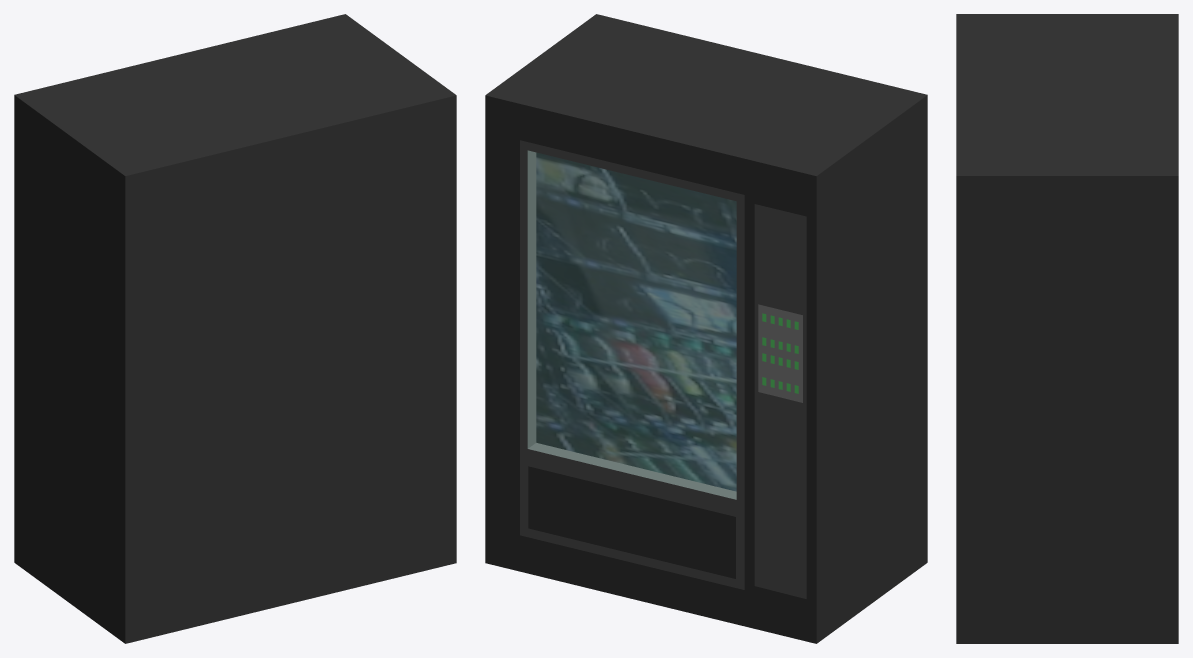
The model's file is VendingMachine.glb.
3 views of the same model, side by side, from view 1: azimuth 30°, elevation 25°; view 2: azimuth 150°, elevation 25°; view 3: azimuth 270°, elevation 25° (orthographic).
Visible parts, largest first — view 1: Cube; view 2: Cube; view 3: Cube.
Part boxes in pixels (x1,y1,x2,y2): Cube: [14, 14, 456, 643]; Cube: [485, 14, 927, 643]; Cube: [956, 14, 1178, 643].
Size of the model in its own units: 5.88 by 7.94 by 3.42.
Materials: 6 (1 with a texture image).
